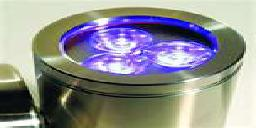LED: (31, 6, 249, 95)
